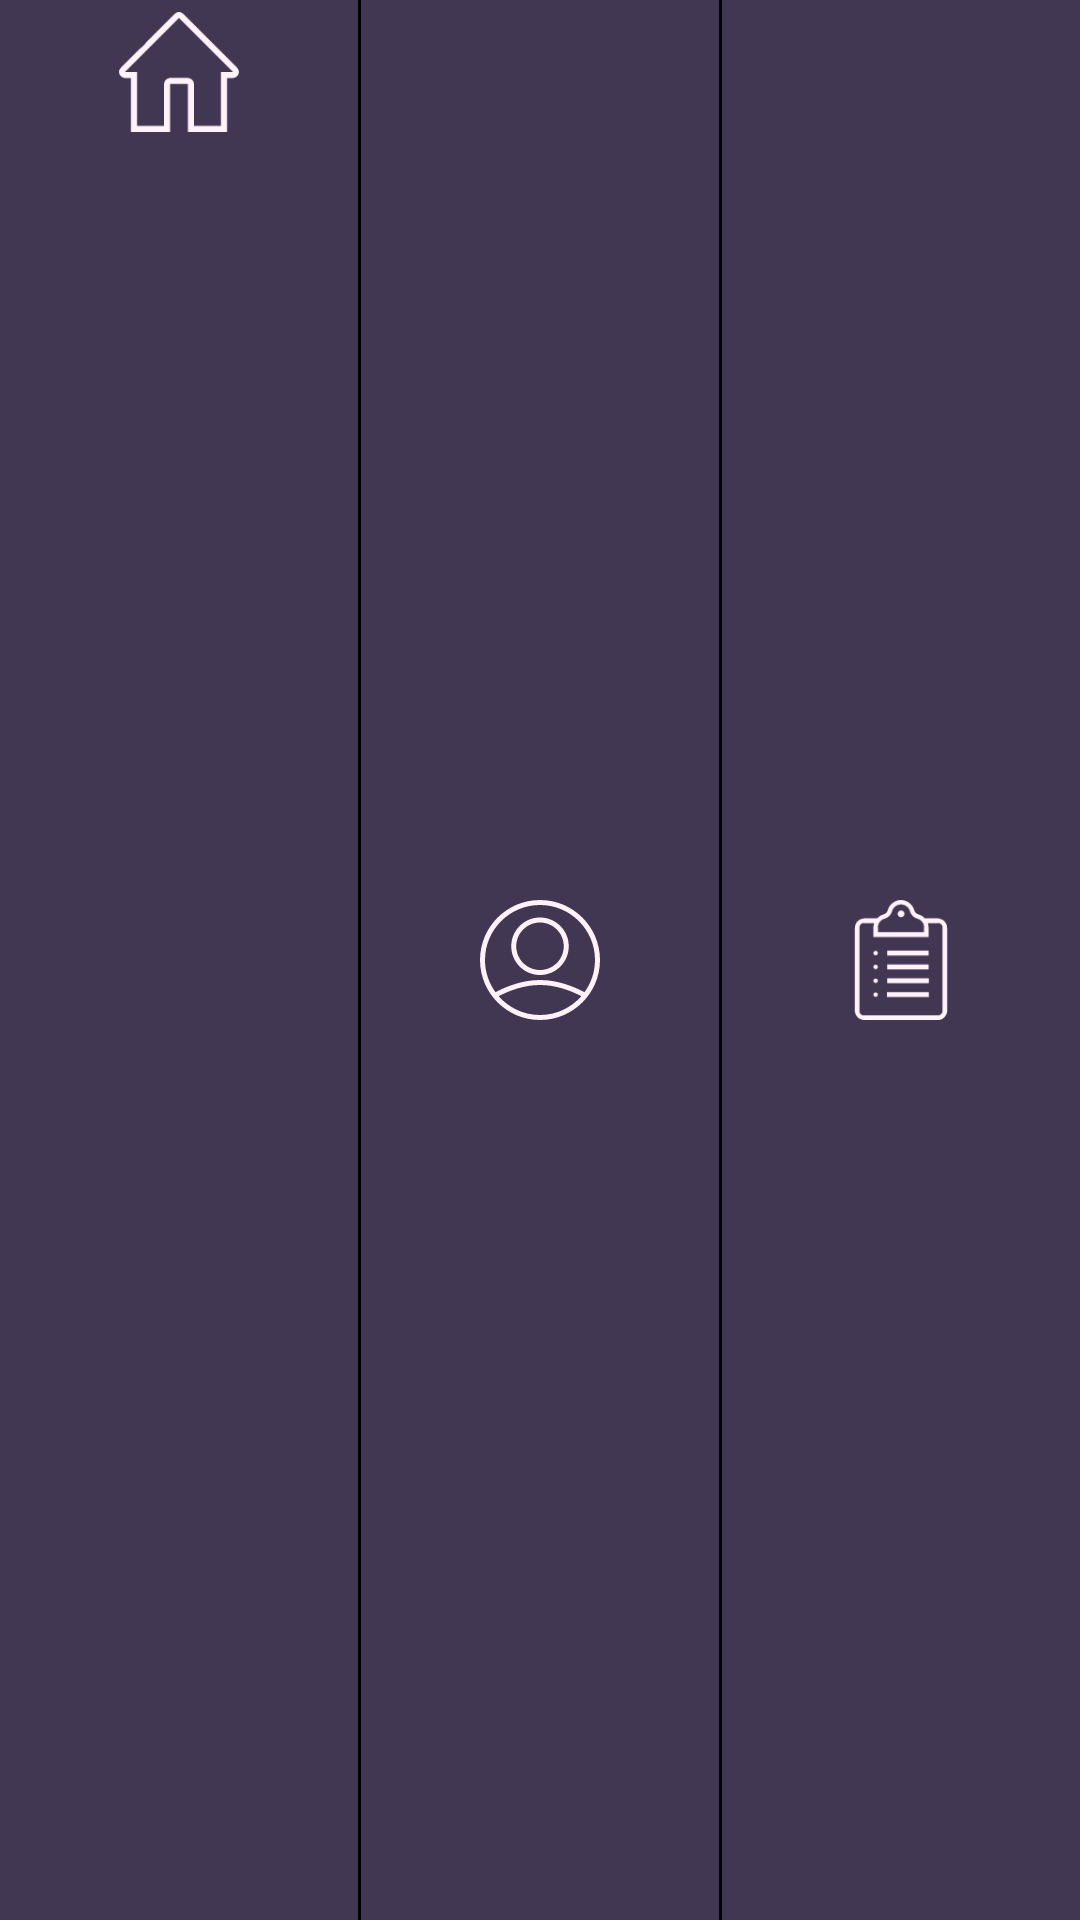

Icons on this 1080 x 1920 Android screen, each with its box as (x1,y1,x2,y2):
home: (119,12,239,132)
post: (854,900,948,1020)
profile: (480,900,600,1020)
